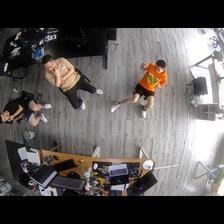fall: (109, 59, 167, 119)
